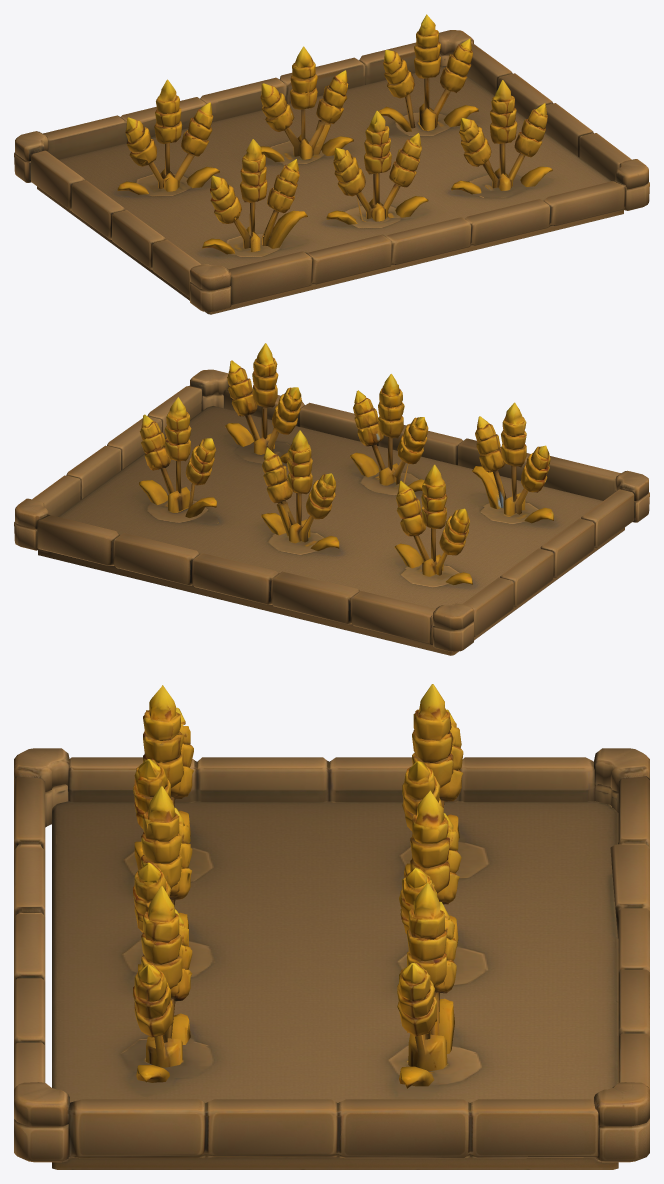
The model's file is wheat_field.fbx.
The picture shows the model from 3 angles, top to bottom: view 1: azimuth 30°, elevation 25°; view 2: azimuth 150°, elevation 25°; view 3: azimuth 270°, elevation 25°; orthographic projection. The views are drawn at different scales.
Parts seen in each view (by area): view 1: tripo_part_85, tripo_part_29, tripo_part_67, tripo_part_80, tripo_part_62, tripo_part_74, tripo_part_33, tripo_part_77; view 2: tripo_part_85, tripo_part_29, tripo_part_80, tripo_part_67, tripo_part_62, tripo_part_77, tripo_part_74, tripo_part_33; view 3: tripo_part_85, tripo_part_29, tripo_part_80, tripo_part_33, tripo_part_77, tripo_part_67, tripo_part_74, tripo_part_62.
Boxes of the visible parts, <box> form: tripo_part_85: <box>37,65,623,314</box>; tripo_part_29: <box>14,30,649,312</box>; tripo_part_67: <box>202,139,307,254</box>; tripo_part_80: <box>378,14,478,131</box>; tripo_part_62: <box>260,46,353,162</box>; tripo_part_74: <box>326,110,428,224</box>; tripo_part_33: <box>451,80,552,194</box>; tripo_part_77: <box>117,79,219,194</box>; tripo_part_85: <box>38,406,624,655</box>; tripo_part_29: <box>14,369,649,651</box>; tripo_part_80: <box>139,397,216,517</box>; tripo_part_67: <box>472,402,553,523</box>; tripo_part_62: <box>261,430,339,550</box>; tripo_part_77: <box>394,464,472,584</box>; tripo_part_74: <box>350,374,428,491</box>; tripo_part_33: <box>225,343,301,463</box>; tripo_part_85: <box>52,801,618,1169</box>; tripo_part_29: <box>14,748,649,1162</box>; tripo_part_80: <box>397,883,456,1088</box>; tripo_part_33: <box>133,886,192,1082</box>; tripo_part_77: <box>402,684,463,877</box>; tripo_part_67: <box>133,685,193,869</box>; tripo_part_74: <box>133,786,192,971</box>; tripo_part_62: <box>399,790,461,947</box>.
Size of the model in its own units: 1 by 0.319 by 0.7534.
